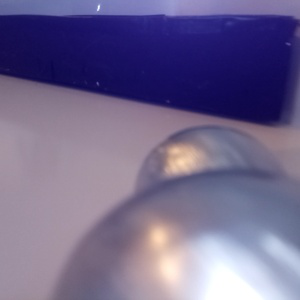zone: (1, 13, 299, 126)
